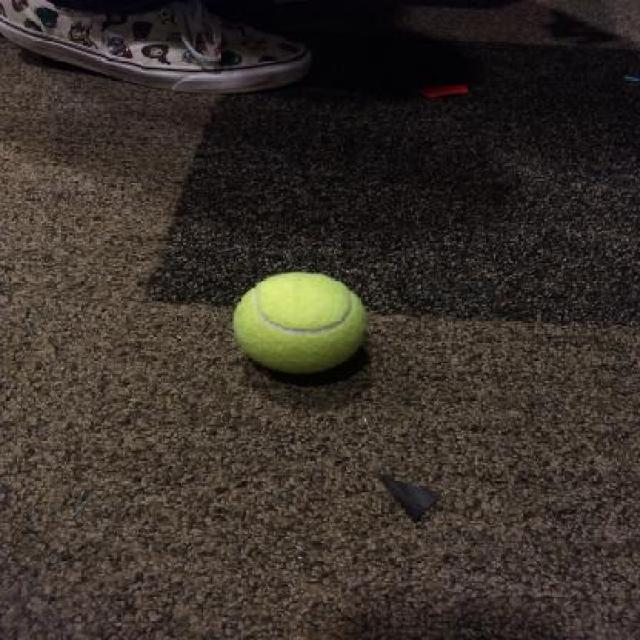Tennis_Ball: (234, 268, 378, 384)
